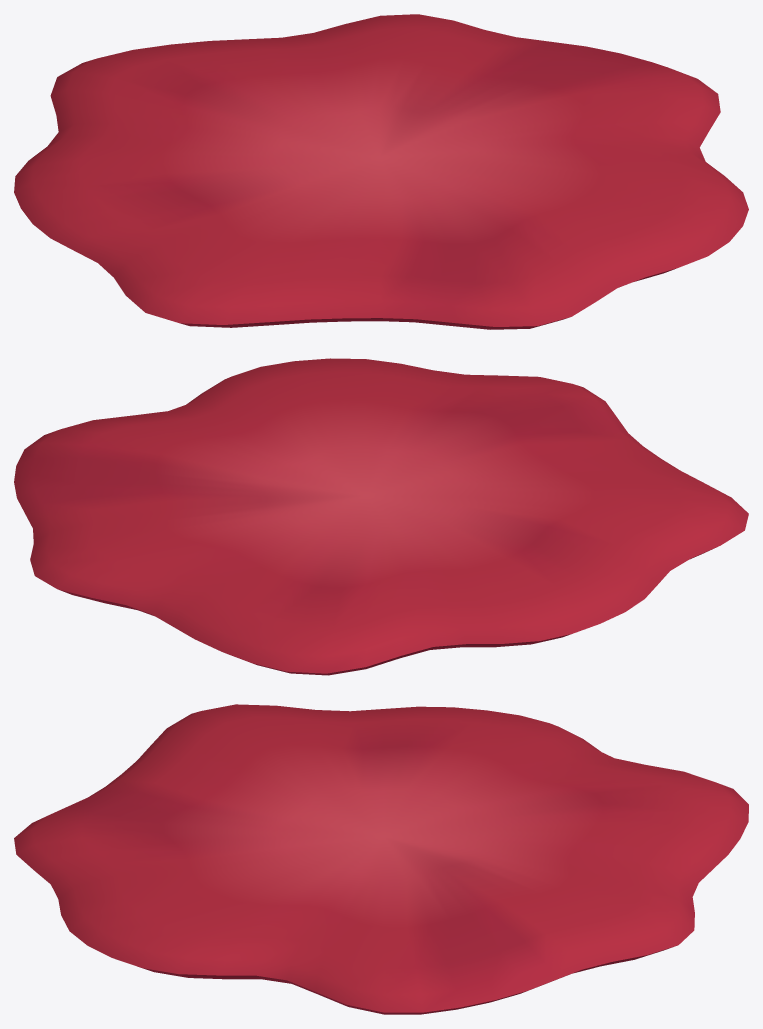
File: jam.glb
3 renders of one model, top to bottom at view 1: azimuth 30°, elevation 25°; view 2: azimuth 150°, elevation 25°; view 3: azimuth 270°, elevation 25°, orthographic. The views are drawn at different scales.
Parts seen in each view (by area): view 1: body; view 2: body; view 3: body.
Boxes of the visible parts, x1,y1,x2,y2 form: body: [14, 14, 748, 329]; body: [14, 358, 748, 675]; body: [14, 704, 748, 1014].
Size of the model in its own units: 0.9124 by 0.05 by 0.9266.
